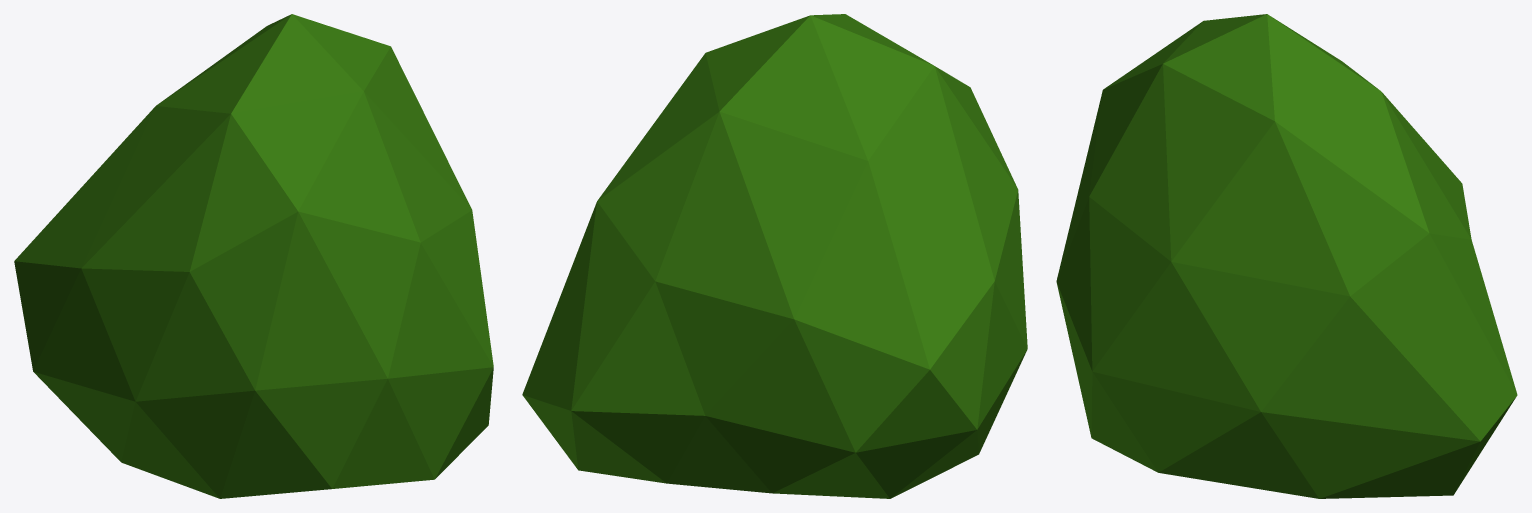
File: bush.obj
The picture shows the model from 3 angles, left to right: view 1: azimuth 30°, elevation 25°; view 2: azimuth 150°, elevation 25°; view 3: azimuth 270°, elevation 25°; orthographic projection. The views are drawn at different scales.
Parts seen in each view (by area): view 1: NaturePack Bush1; view 2: NaturePack Bush1; view 3: NaturePack Bush1.
Boxes of the visible parts, x1=… form: NaturePack Bush1: x1=14, y1=14, x2=493, y2=498; NaturePack Bush1: x1=522, y1=14, x2=1027, y2=498; NaturePack Bush1: x1=1056, y1=14, x2=1517, y2=498.
Bounding box in the file's own units: 2.56 × 2.66 × 2.65.
